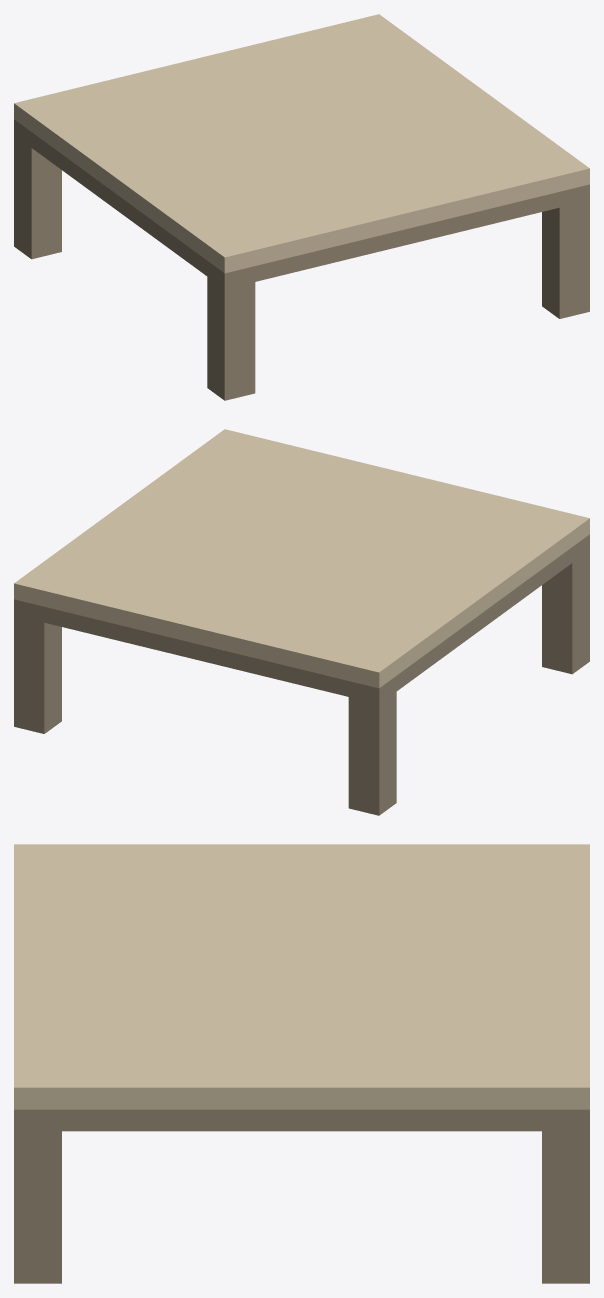
Rendered from mesa_comedor_pequena_haya_01.glb.
The picture shows the model from 3 angles, top to bottom: view 1: azimuth 30°, elevation 25°; view 2: azimuth 150°, elevation 25°; view 3: azimuth 270°, elevation 25°; orthographic projection. The views are drawn at different scales.
Parts seen in each view (by area): view 1: mesa_comedor_pequena_haya; view 2: mesa_comedor_pequena_haya; view 3: mesa_comedor_pequena_haya.
Boxes of the visible parts, x1=… form: mesa_comedor_pequena_haya: x1=14, y1=14, x2=589, y2=400; mesa_comedor_pequena_haya: x1=14, y1=429, x2=589, y2=815; mesa_comedor_pequena_haya: x1=14, y1=844, x2=589, y2=1283.
Bounding box in the file's own units: 2 × 0.75 × 2.
